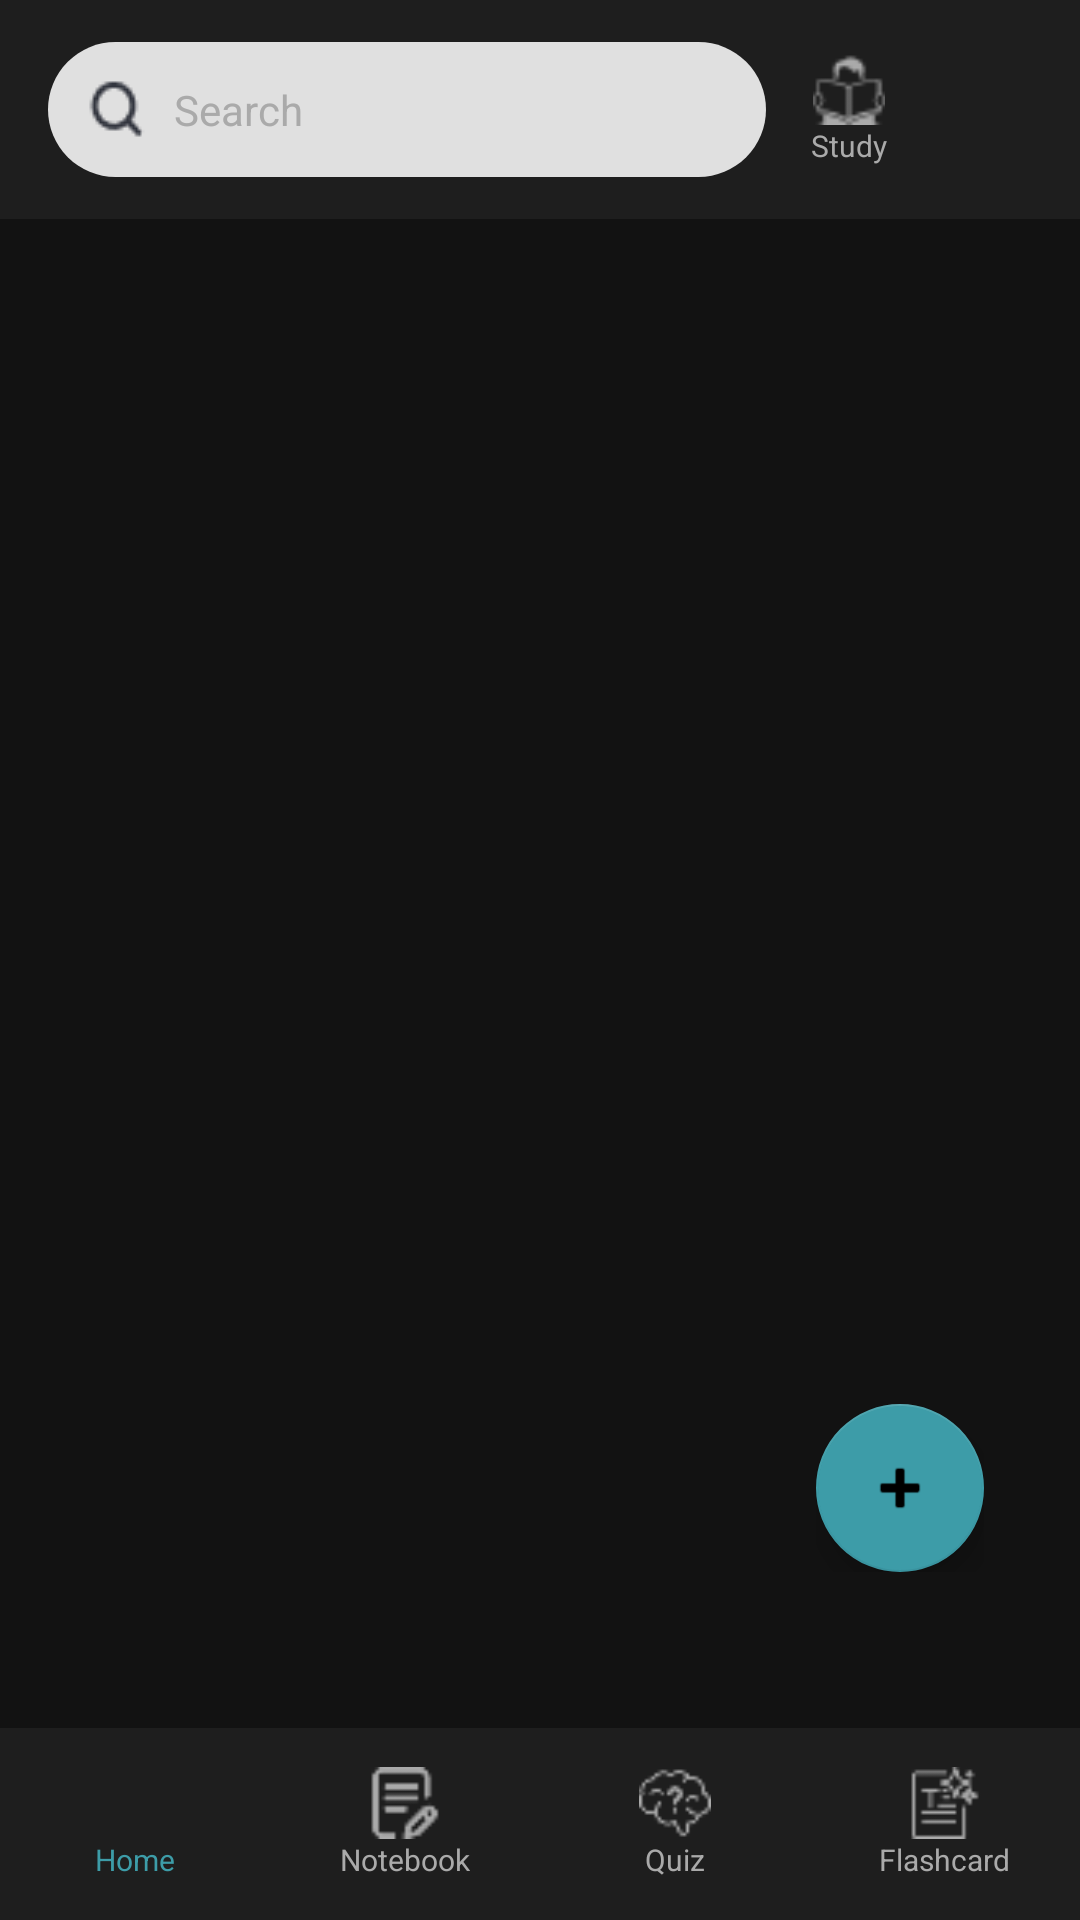

Screen size 1080 × 1920. Icon name, then its center in pixels as [x,y]:
add: [900,1488]
aisummarize: [945,1803]
